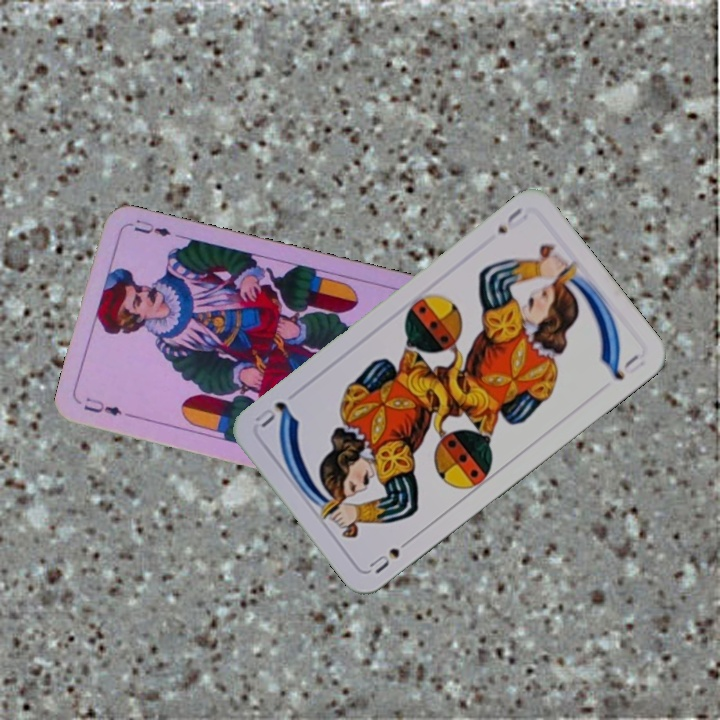EU: (80, 394, 125, 418)
SU: (364, 533, 416, 577), (493, 203, 531, 237)
